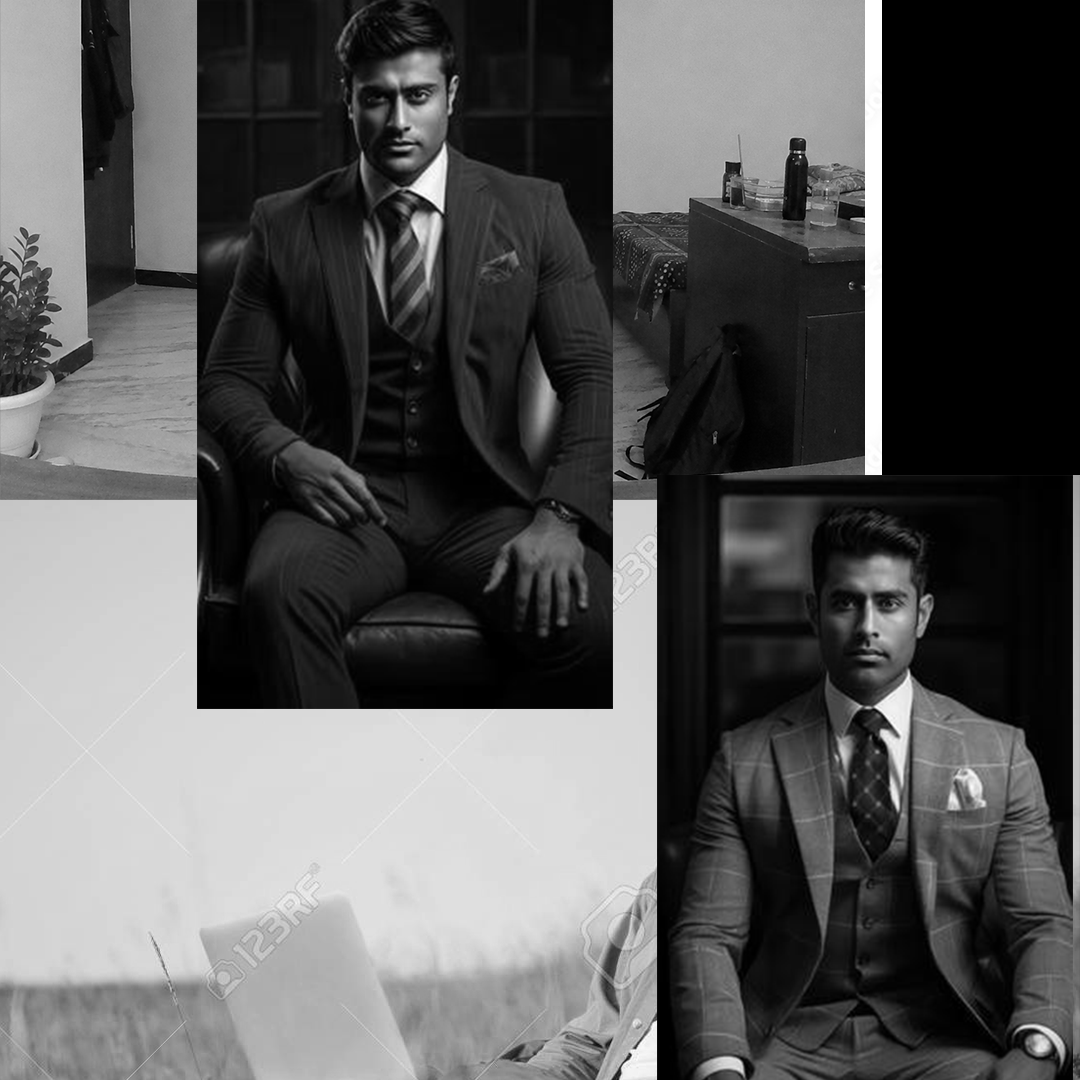Focused: (716, 380, 1032, 864), (270, 4, 567, 337)
